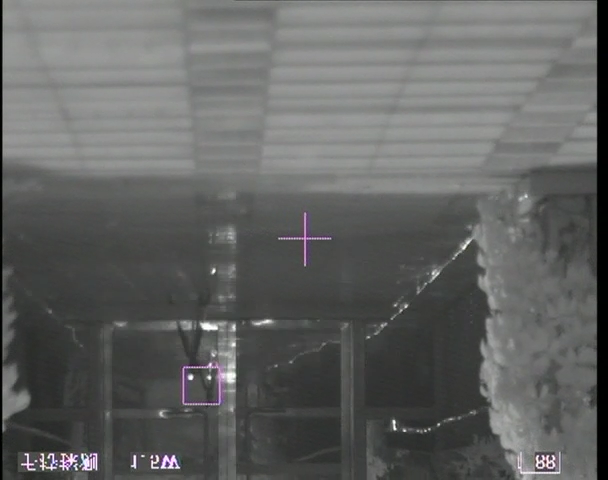my: (186, 373, 195, 382)
